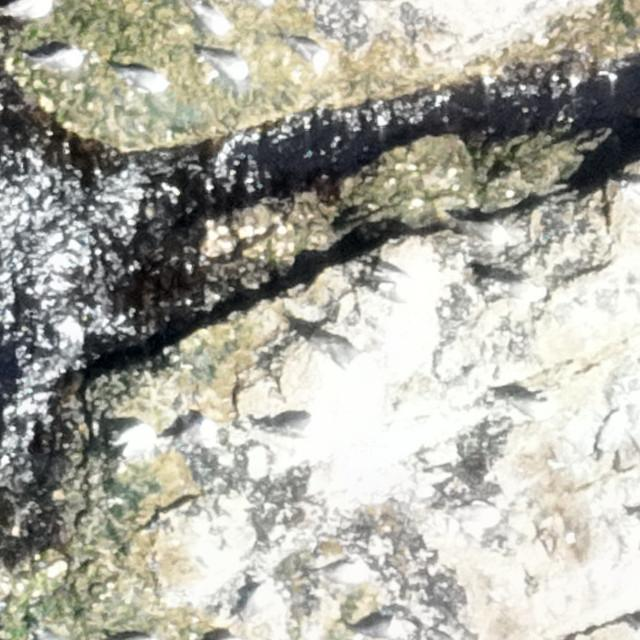umineko: (316, 332, 370, 372), (112, 422, 156, 470), (262, 407, 324, 439), (286, 33, 329, 71), (370, 274, 424, 304), (598, 406, 626, 462), (32, 44, 85, 72), (504, 393, 554, 420), (364, 612, 418, 636), (202, 55, 251, 80), (195, 6, 230, 39), (326, 564, 370, 587), (177, 421, 216, 446), (122, 68, 163, 90)
